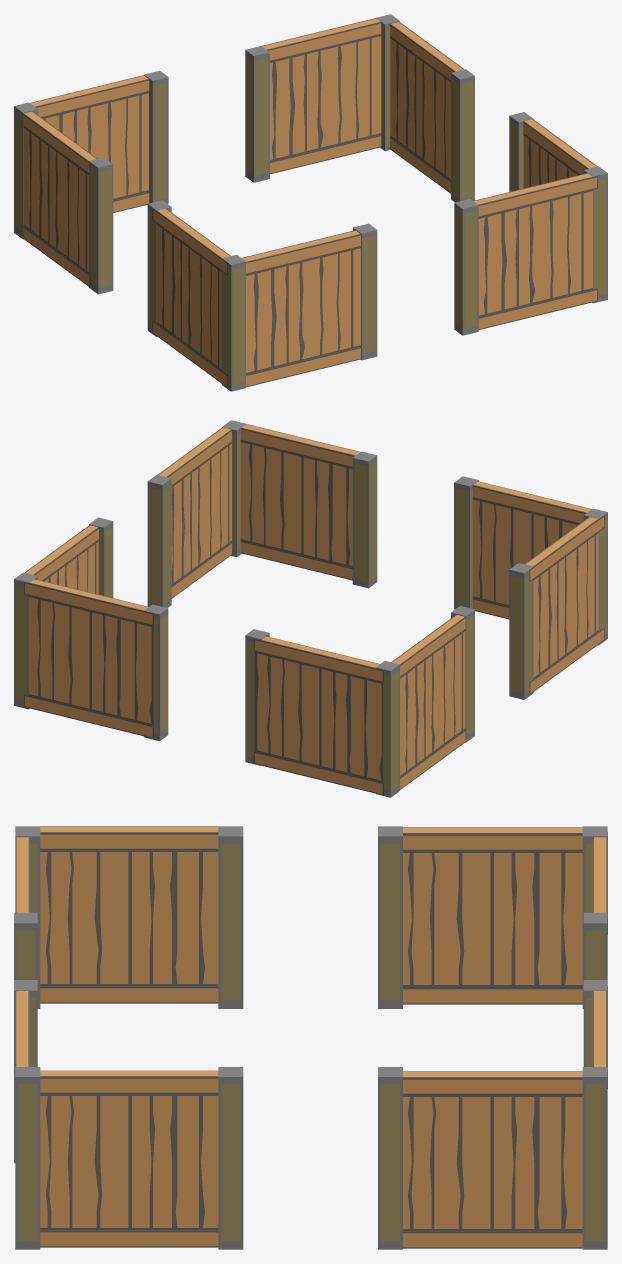
File: TestRoom.fbx
The picture shows the model from 3 angles, top to bottom: view 1: azimuth 30°, elevation 25°; view 2: azimuth 150°, elevation 25°; view 3: azimuth 270°, elevation 25°; orthographic projection. The views are drawn at different scales.
Visible parts, largest first — view 1: Cube, Cube.001; view 2: Cube, Cube.001; view 3: Cube, Cube.001.
Boxes of the visible parts, box(x1,y1,x2,y2) form: Cube: box(23, 18, 597, 387); Cube.001: box(14, 14, 607, 391); Cube: box(24, 424, 604, 795); Cube.001: box(14, 420, 607, 797); Cube: box(15, 826, 607, 1248); Cube.001: box(14, 826, 607, 1249).
Size of the model in its own units: 819 by 263 by 819.
